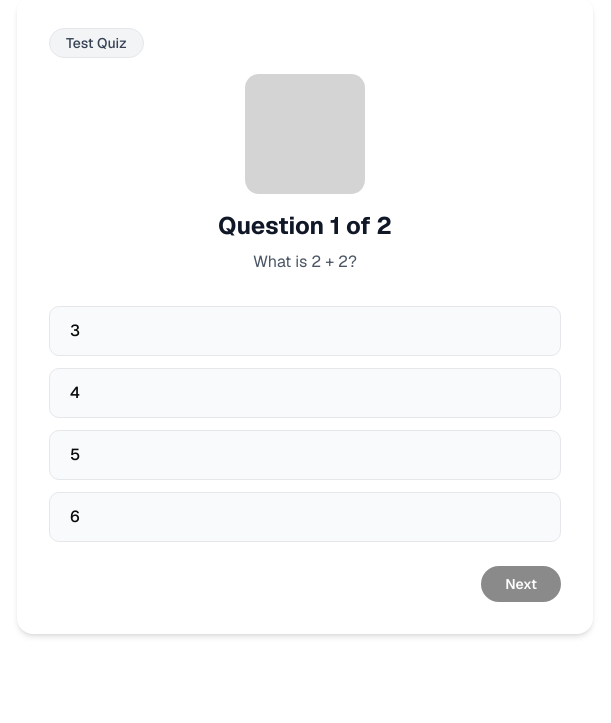
Scenario: QuizClient › navigates to next question when next is clicked
Click the button "3" at point(75, 330), box [49,306,561,356]
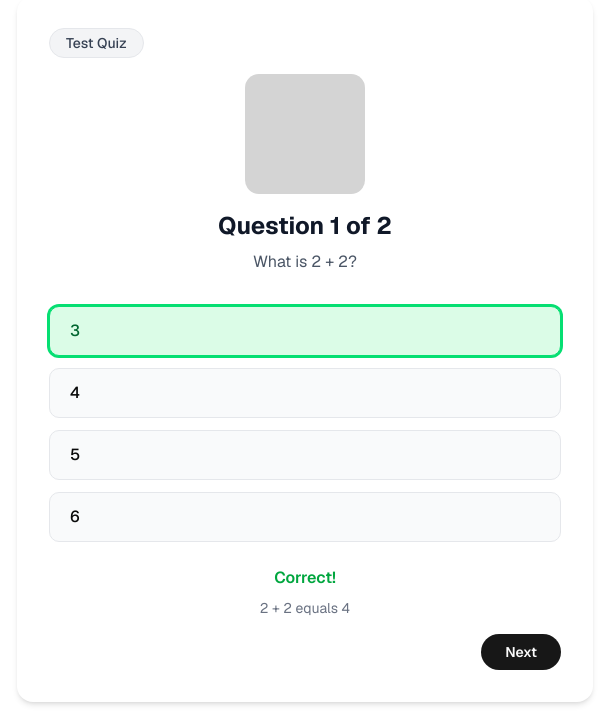
Click the button "Next" at point(521, 652), box [481,634,561,670]
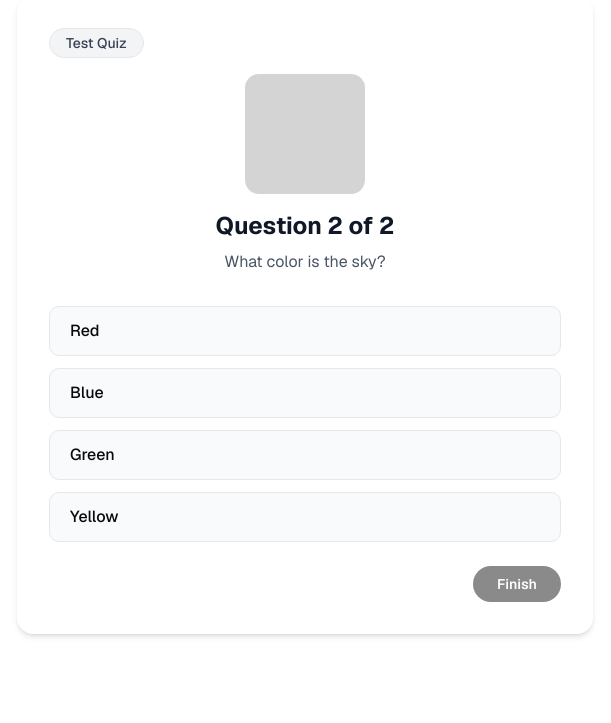
Result: the heading "Question 2 of 2" is shown at [216,210,394,242]
Result: the text "What color is the sky?" is shown at [224,250,386,274]
